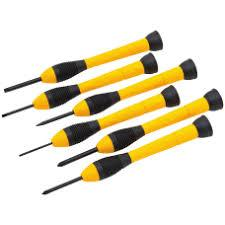screwdriver: (41, 114, 212, 195), (40, 114, 212, 194), (55, 87, 223, 167), (55, 87, 223, 167), (16, 84, 180, 156), (17, 85, 181, 156), (34, 56, 197, 126), (34, 57, 197, 127), (0, 51, 158, 117), (0, 52, 159, 117), (2, 29, 163, 92), (3, 29, 164, 92)
